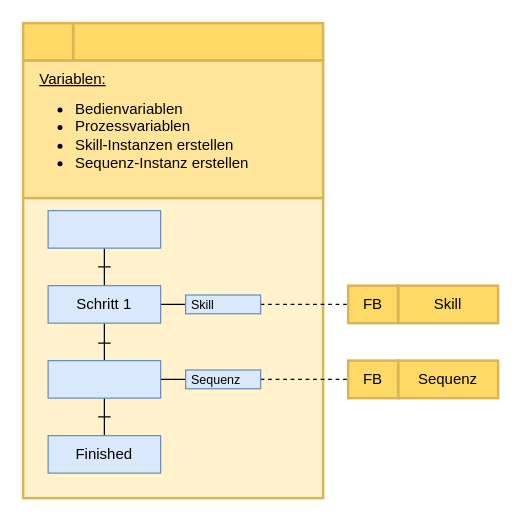
This 520x520 diagram has some shape labels left out. The box of each missing label's shape, as (x1, y1, x2, y2) in pixels:
Arbeitsplan: (71, 21, 324, 61)
INIT: (47, 209, 161, 248)
PRG: (21, 21, 74, 61)
Schritt 2: (47, 359, 161, 398)
